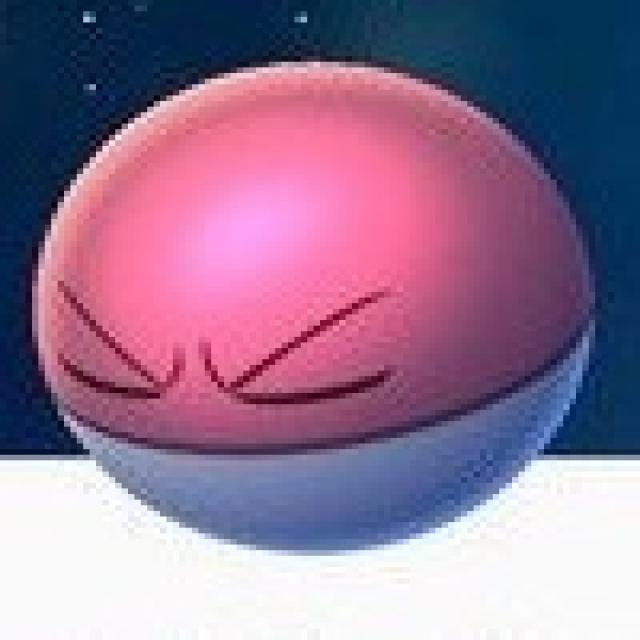Voltorb: (38, 51, 586, 562)
